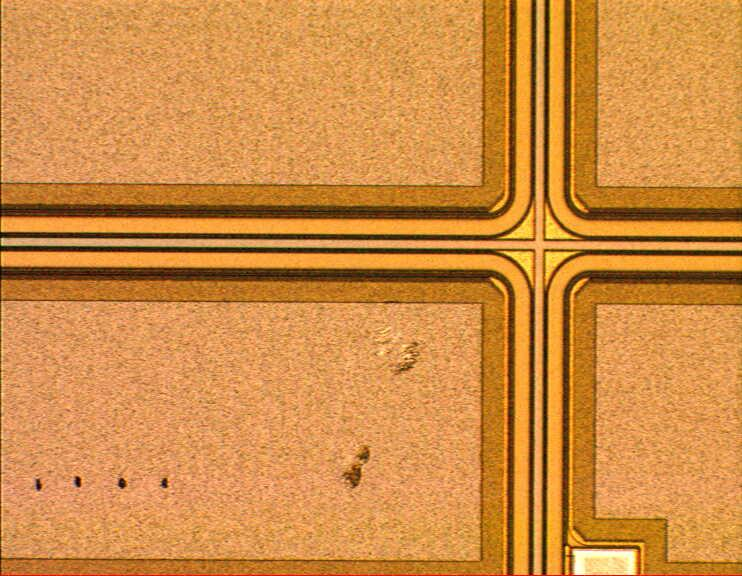SCRATCH: (312, 318, 443, 497)
